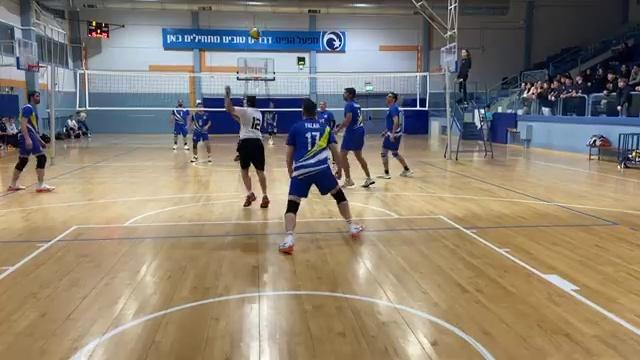ball: (249, 27, 261, 40)
